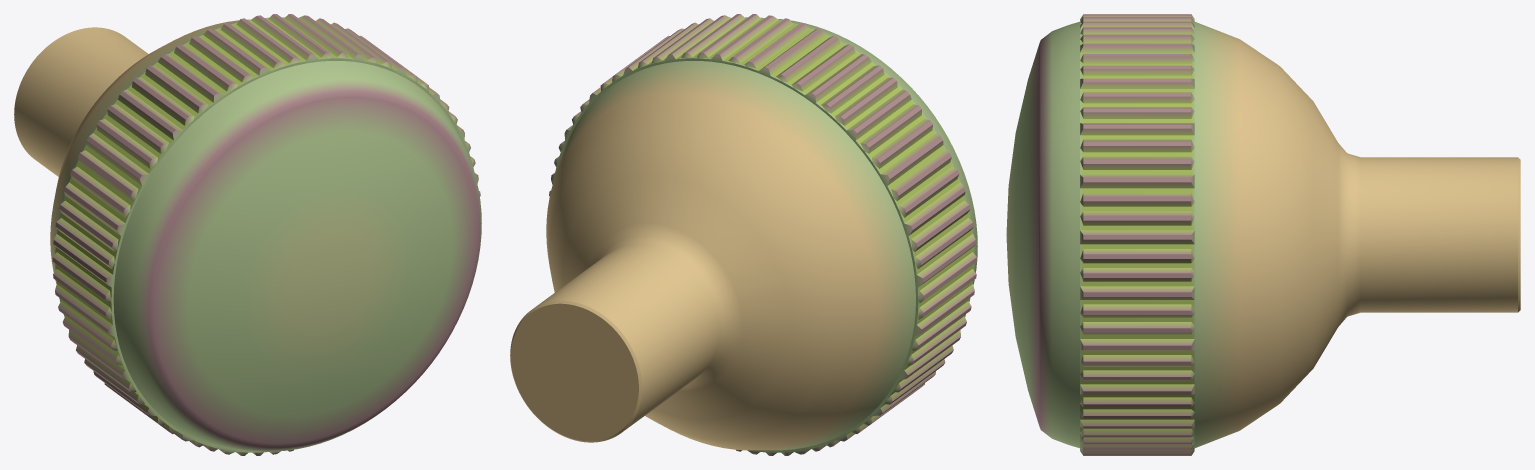
The model's file is Kit_Lock_Knob_Brass.fbx.
The picture shows the model from 3 angles, left to right: view 1: azimuth 30°, elevation 25°; view 2: azimuth 150°, elevation 25°; view 3: azimuth 270°, elevation 25°; orthographic projection.
Parts seen in each view (by area): view 1: Kit_Lock_Knob_LOD0; view 2: Kit_Lock_Knob_LOD0; view 3: Kit_Lock_Knob_LOD0.
Boxes of the visible parts, x1,y1,x2,y2 form: Kit_Lock_Knob_LOD0: [14, 14, 481, 455]; Kit_Lock_Knob_LOD0: [510, 14, 977, 455]; Kit_Lock_Knob_LOD0: [1006, 14, 1520, 455].
Size of what is drawn, in the model's own units: 0.054 by 0.054 by 0.0628.
